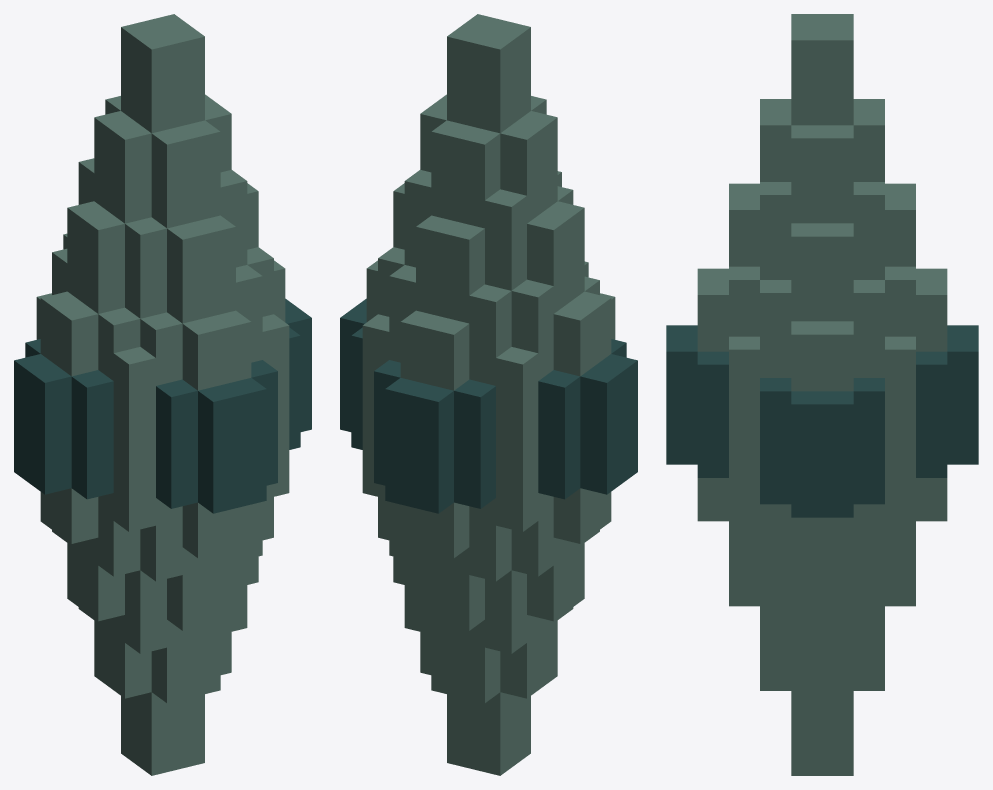
The model's file is Crystal_Big_2.obj.
3 views of the same model, side by side, from view 1: azimuth 30°, elevation 25°; view 2: azimuth 150°, elevation 25°; view 3: azimuth 270°, elevation 25° (orthographic).
Size of the model in its own units: 0.25 by 0.65 by 0.25.
